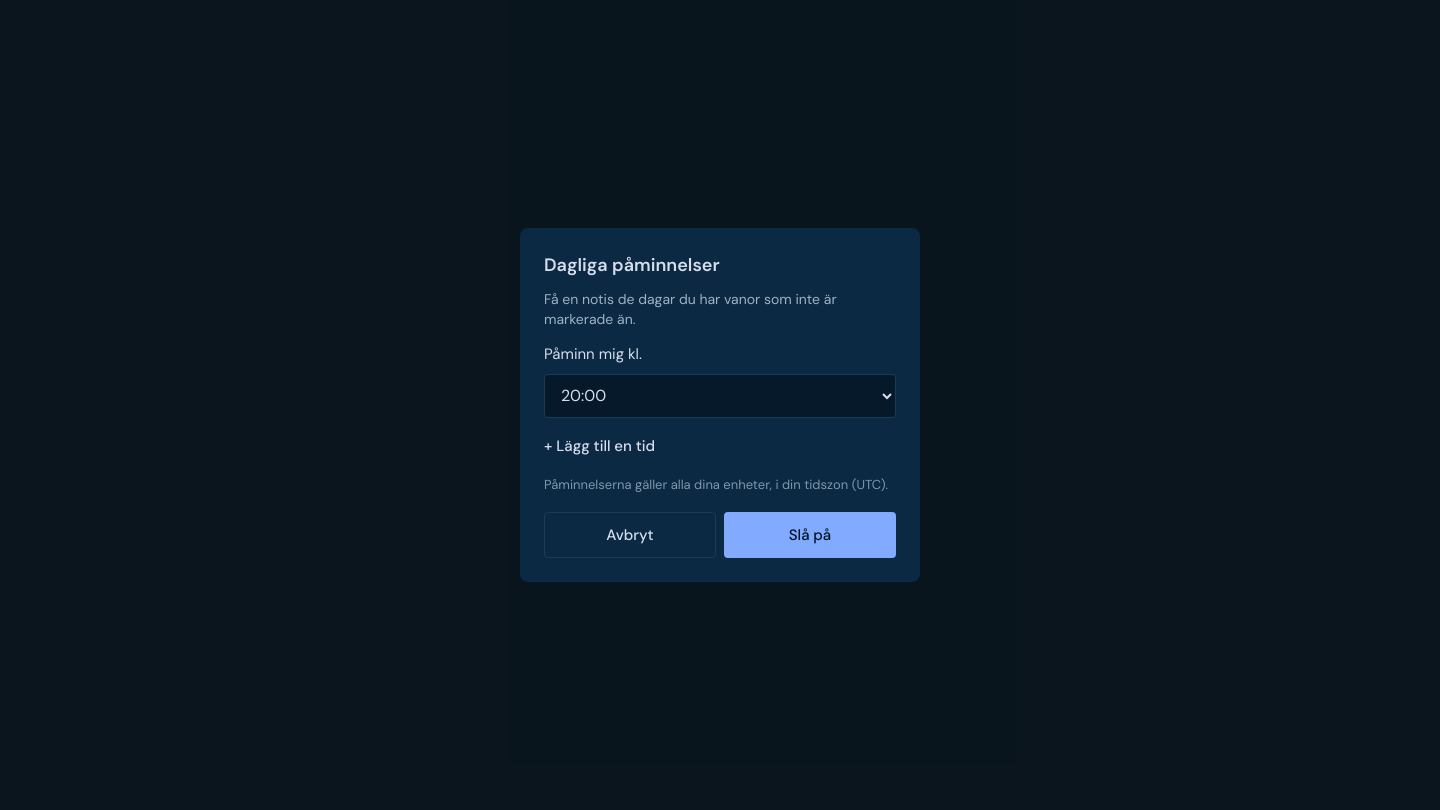
Test: ReminderDialog - daily reminder on this device › should speak Swedish, with Swedish times
The image size is (1440, 810).
Expected: the dialog "Dagliga påminnelser" is shown, [520,228,920,582]
Select "07:00" in the dropdown named "Påminnelse 1" at coordinates (720, 396), box [544,374,896,418]
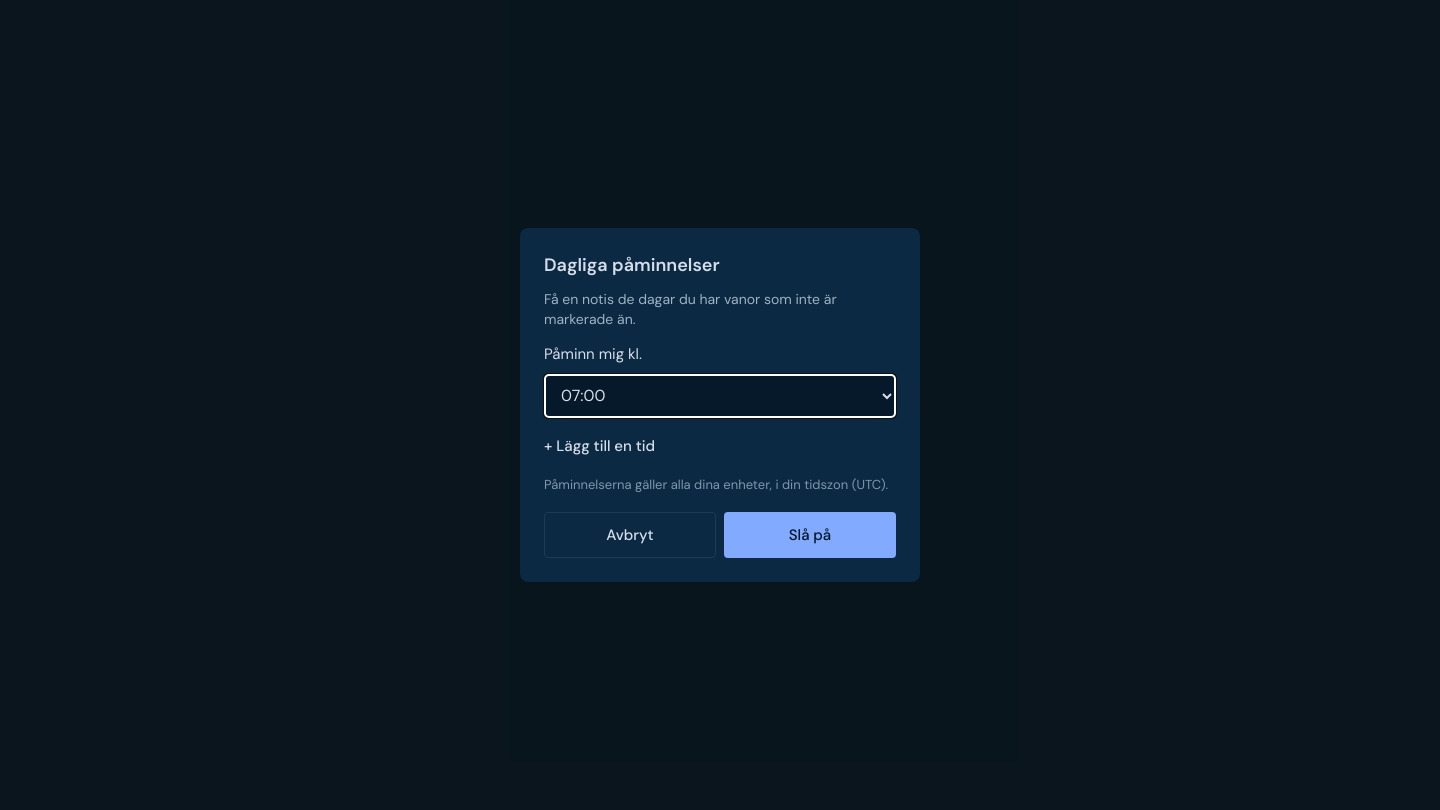
Click the button "Slå på" at coordinates (810, 535), box [724,512,896,558]
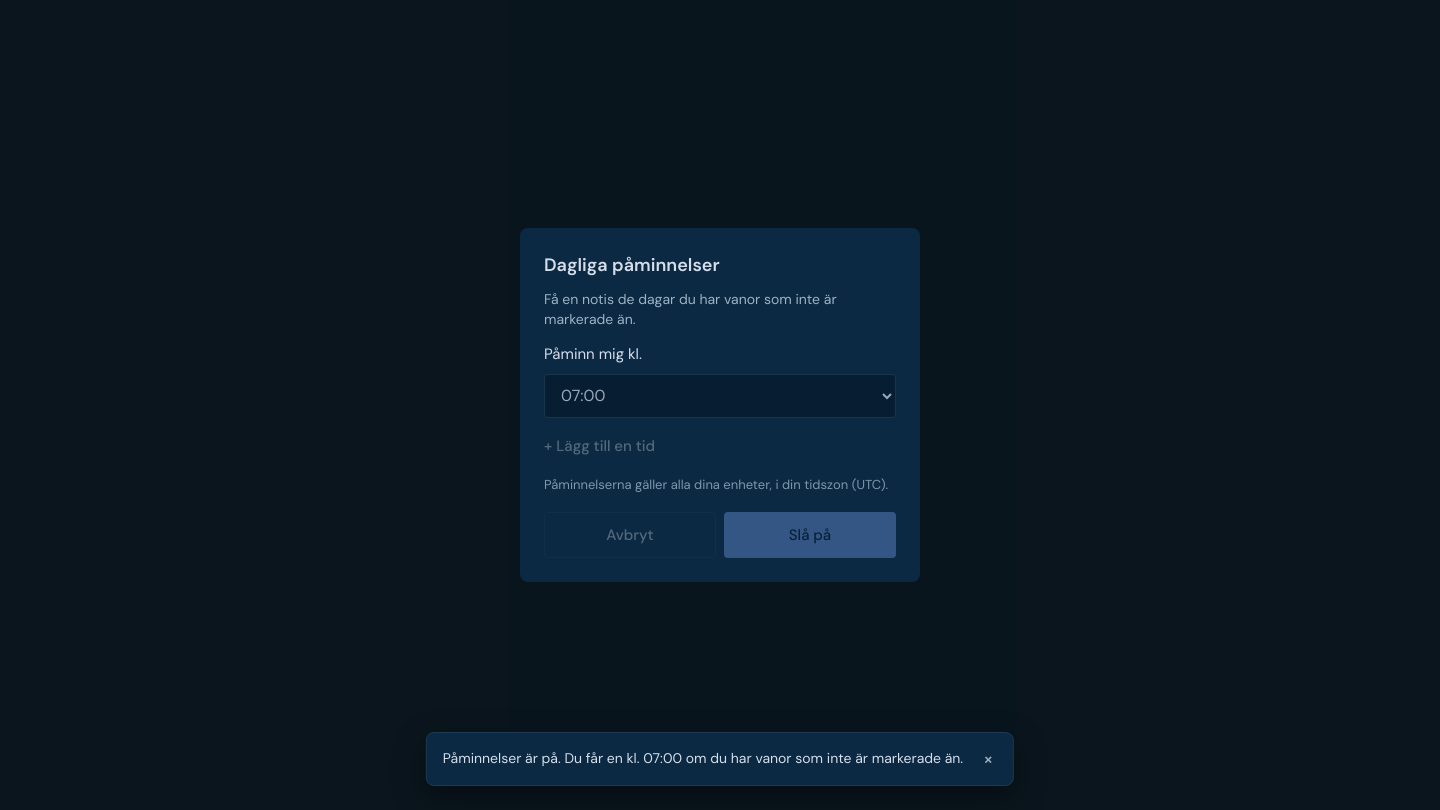
Expected: the message shows "Påminnelser är på. Du får en kl. 07:00", [443,749,963,767]
